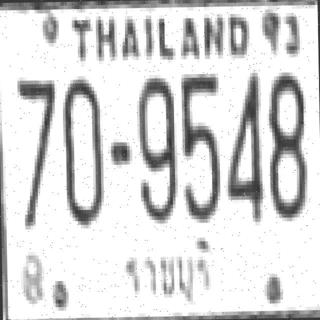N00: (59, 76, 102, 225)
N04: (223, 69, 260, 222)
N05: (180, 70, 219, 219), (180, 70, 218, 160)
N07: (14, 76, 57, 222), (14, 76, 56, 178)
N08: (266, 68, 305, 218)
N09: (134, 74, 177, 220)
P52: (114, 237, 220, 309)
